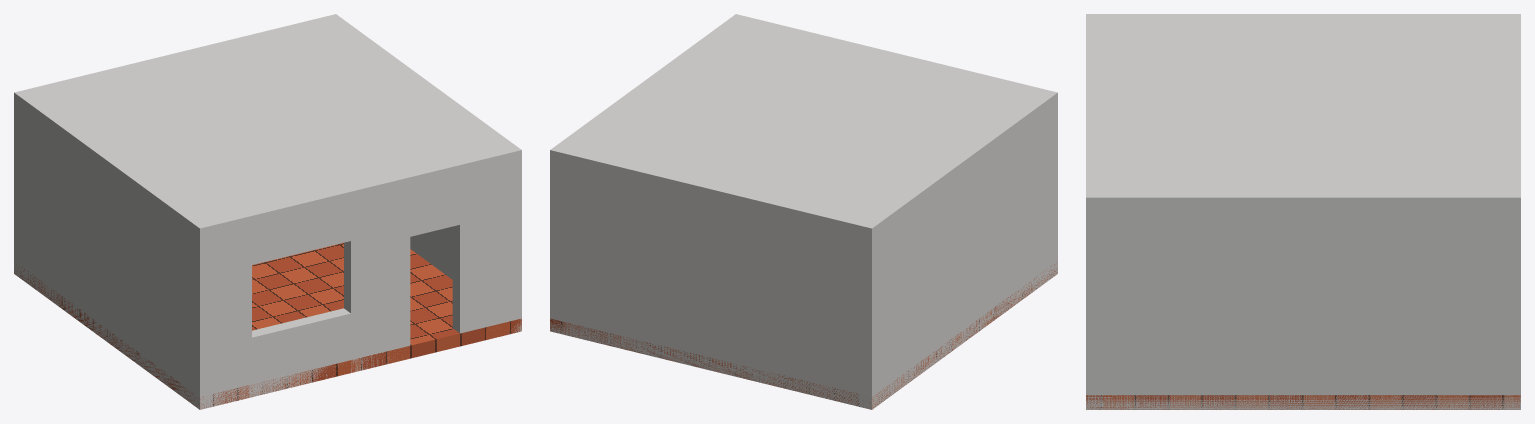
File: annex.gltf
3 renders of one model, left to right at view 1: azimuth 30°, elevation 25°; view 2: azimuth 150°, elevation 25°; view 3: azimuth 270°, elevation 25°, orthographic. The views are drawn at different scales.
Parts seen in each view (by area): view 1: Annex; view 2: Annex; view 3: Annex.
Part boxes in pixels (x1,y1,x2,y2): Annex: (14,14,521,409); Annex: (550,14,1057,409); Annex: (1086,14,1520,409).
Bounding box in the file's own units: 6.5 × 3.5 × 6.5.
Materials: 2 (1 with a texture image).
